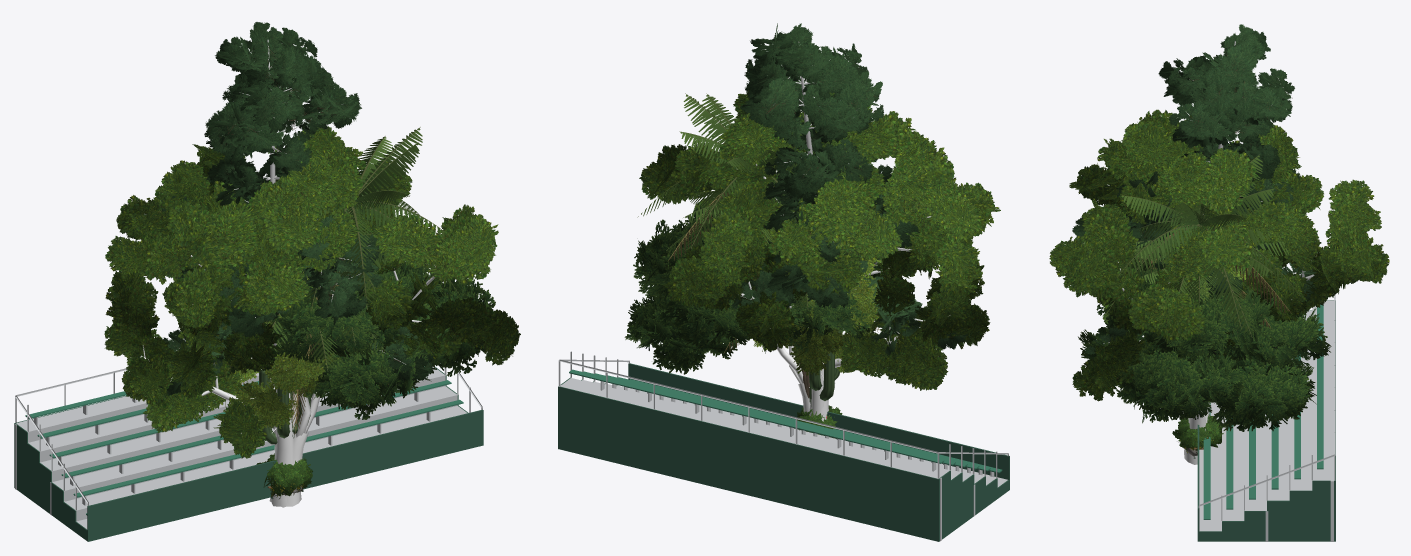
File: environment.glb
3 renders of one model, left to right at view 1: azimuth 30°, elevation 25°; view 2: azimuth 150°, elevation 25°; view 3: azimuth 270°, elevation 25°, orthographic. The views are drawn at different scales.
Parts seen in each view (by area): view 1: Tree_Oak_Leaves, Tree_Pine_Leaves, Grandstand_GrandstandSteel, Grandstand_GrandstandPanel, Tree_Cypress_Leaves, Tree_Palm_C_Fronds, Grandstand_GrandstandSeat, Tree_Birch_Leaves, Tree_Oak_Bark, Bush_Green_Leaves, Tree_Palm_B_Fronds, Tree_Cypress_Bark; view 2: Tree_Oak_Leaves, Grandstand_GrandstandPanel, Tree_Pine_Leaves, Tree_Cypress_Leaves, Grandstand_GrandstandSteel, Tree_Palm_C_Fronds, Grandstand_GrandstandSeat, Tree_Birch_Leaves, Tree_Palm_A_Fronds, Tree_Pine_Bark, Tree_Cypress_Bark; view 3: Tree_Oak_Leaves, Tree_Cypress_Leaves, Tree_Pine_Leaves, Grandstand_GrandstandSteel, Tree_Palm_C_Fronds, Grandstand_GrandstandPanel, Grandstand_GrandstandSeat, Tree_Palm_A_Fronds, Bush_Green_Leaves.
Part boxes in pixels (x1=…): Tree_Oak_Leaves: x1=104, y1=126, x2=520, y2=458; Tree_Pine_Leaves: x1=156, y1=22, x2=434, y2=403; Grandstand_GrandstandSteel: x1=15, y1=366, x2=482, y2=529; Grandstand_GrandstandPanel: x1=14, y1=367, x2=483, y2=541; Tree_Cypress_Leaves: x1=227, y1=261, x2=495, y2=419; Tree_Palm_C_Fronds: x1=268, y1=127, x2=458, y2=310; Grandstand_GrandstandSeat: x1=25, y1=366, x2=463, y2=515; Tree_Birch_Leaves: x1=219, y1=256, x2=344, y2=429; Tree_Oak_Bark: x1=140, y1=214, x2=435, y2=506; Bush_Green_Leaves: x1=256, y1=453, x2=312, y2=496; Tree_Palm_B_Fronds: x1=267, y1=254, x2=387, y2=433; Tree_Cypress_Bark: x1=269, y1=378, x2=363, y2=507; Tree_Oak_Leaves: x1=639, y1=92, x2=1000, y2=390; Grandstand_GrandstandPanel: x1=558, y1=363, x2=1009, y2=541; Tree_Pine_Leaves: x1=731, y1=23, x2=971, y2=355; Tree_Cypress_Leaves: x1=624, y1=206, x2=883, y2=374; Grandstand_GrandstandSteel: x1=558, y1=351, x2=1008, y2=541; Tree_Palm_C_Fronds: x1=637, y1=93, x2=806, y2=260; Grandstand_GrandstandSeat: x1=569, y1=369, x2=1002, y2=473; Tree_Birch_Leaves: x1=750, y1=194, x2=882, y2=375; Tree_Palm_A_Fronds: x1=666, y1=159, x2=806, y2=253; Tree_Pine_Bark: x1=772, y1=41, x2=924, y2=415; Tree_Cypress_Bark: x1=777, y1=327, x2=810, y2=412; Tree_Oak_Leaves: x1=1049, y1=109, x2=1389, y2=401; Tree_Cypress_Leaves: x1=1078, y1=258, x2=1331, y2=431; Tree_Pine_Leaves: x1=1072, y1=24, x2=1318, y2=354; Grandstand_GrandstandSteel: x1=1198, y1=294, x2=1335, y2=541; Tree_Palm_C_Fronds: x1=1106, y1=154, x2=1300, y2=328; Grandstand_GrandstandPanel: x1=1197, y1=300, x2=1335, y2=541; Grandstand_GrandstandSeat: x1=1203, y1=304, x2=1323, y2=519; Tree_Palm_A_Fronds: x1=1131, y1=183, x2=1298, y2=337; Bush_Green_Leaves: x1=1172, y1=414, x2=1223, y2=451.
Bounding box in the file's own units: 16.47 × 18.3 × 13.36.
Materials: 26 (4 with a texture image).
